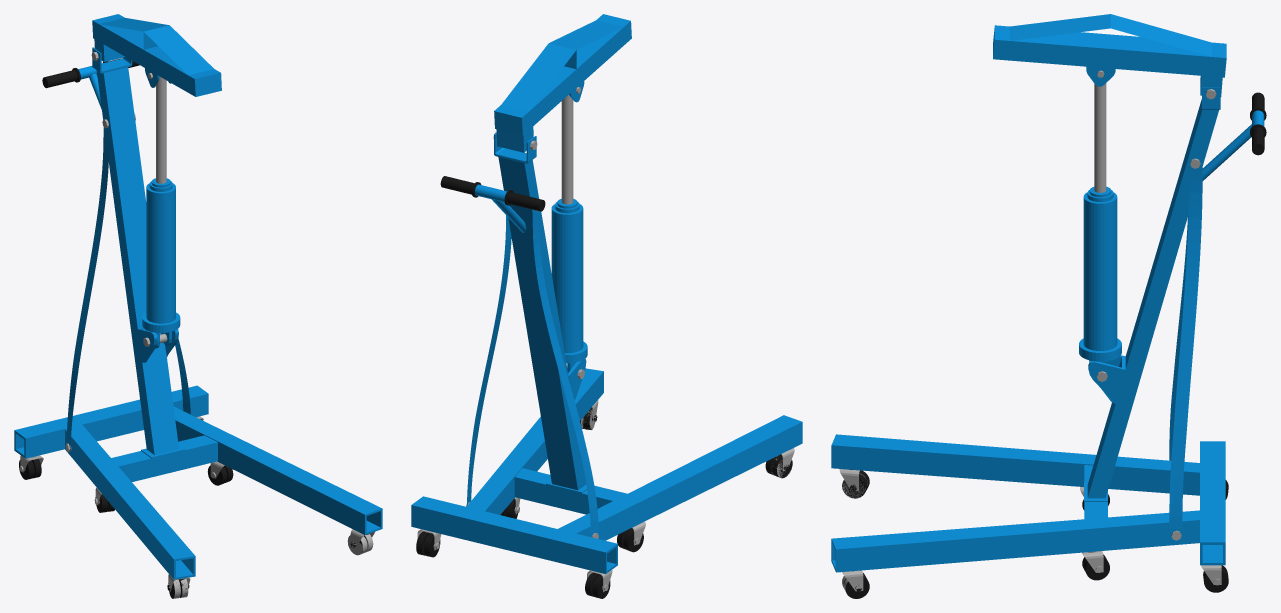
Rendered from gooseMainBody.glb.
3 views of the same model, side by side, from view 1: azimuth 30°, elevation 25°; view 2: azimuth 150°, elevation 25°; view 3: azimuth 270°, elevation 25° (orthographic). The views are drawn at different scales.
Parts seen in each view (by area): view 1: MainBody; view 2: MainBody; view 3: MainBody.
Boxes of the visible parts, left/top/right/bottom form: MainBody: left=14, top=14, right=382, bottom=598; MainBody: left=411, top=14, right=802, bottom=598; MainBody: left=831, top=14, right=1266, bottom=598.
Size of the model in its own units: 9.7 by 20.6 by 15.49.
